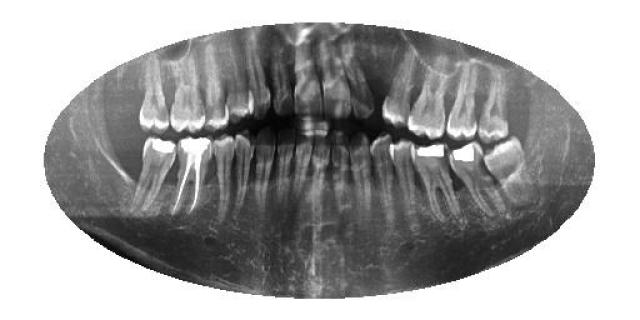Fillings: (450, 140, 505, 214), (408, 142, 458, 216), (134, 135, 176, 211)
Implant: (172, 134, 212, 214)
